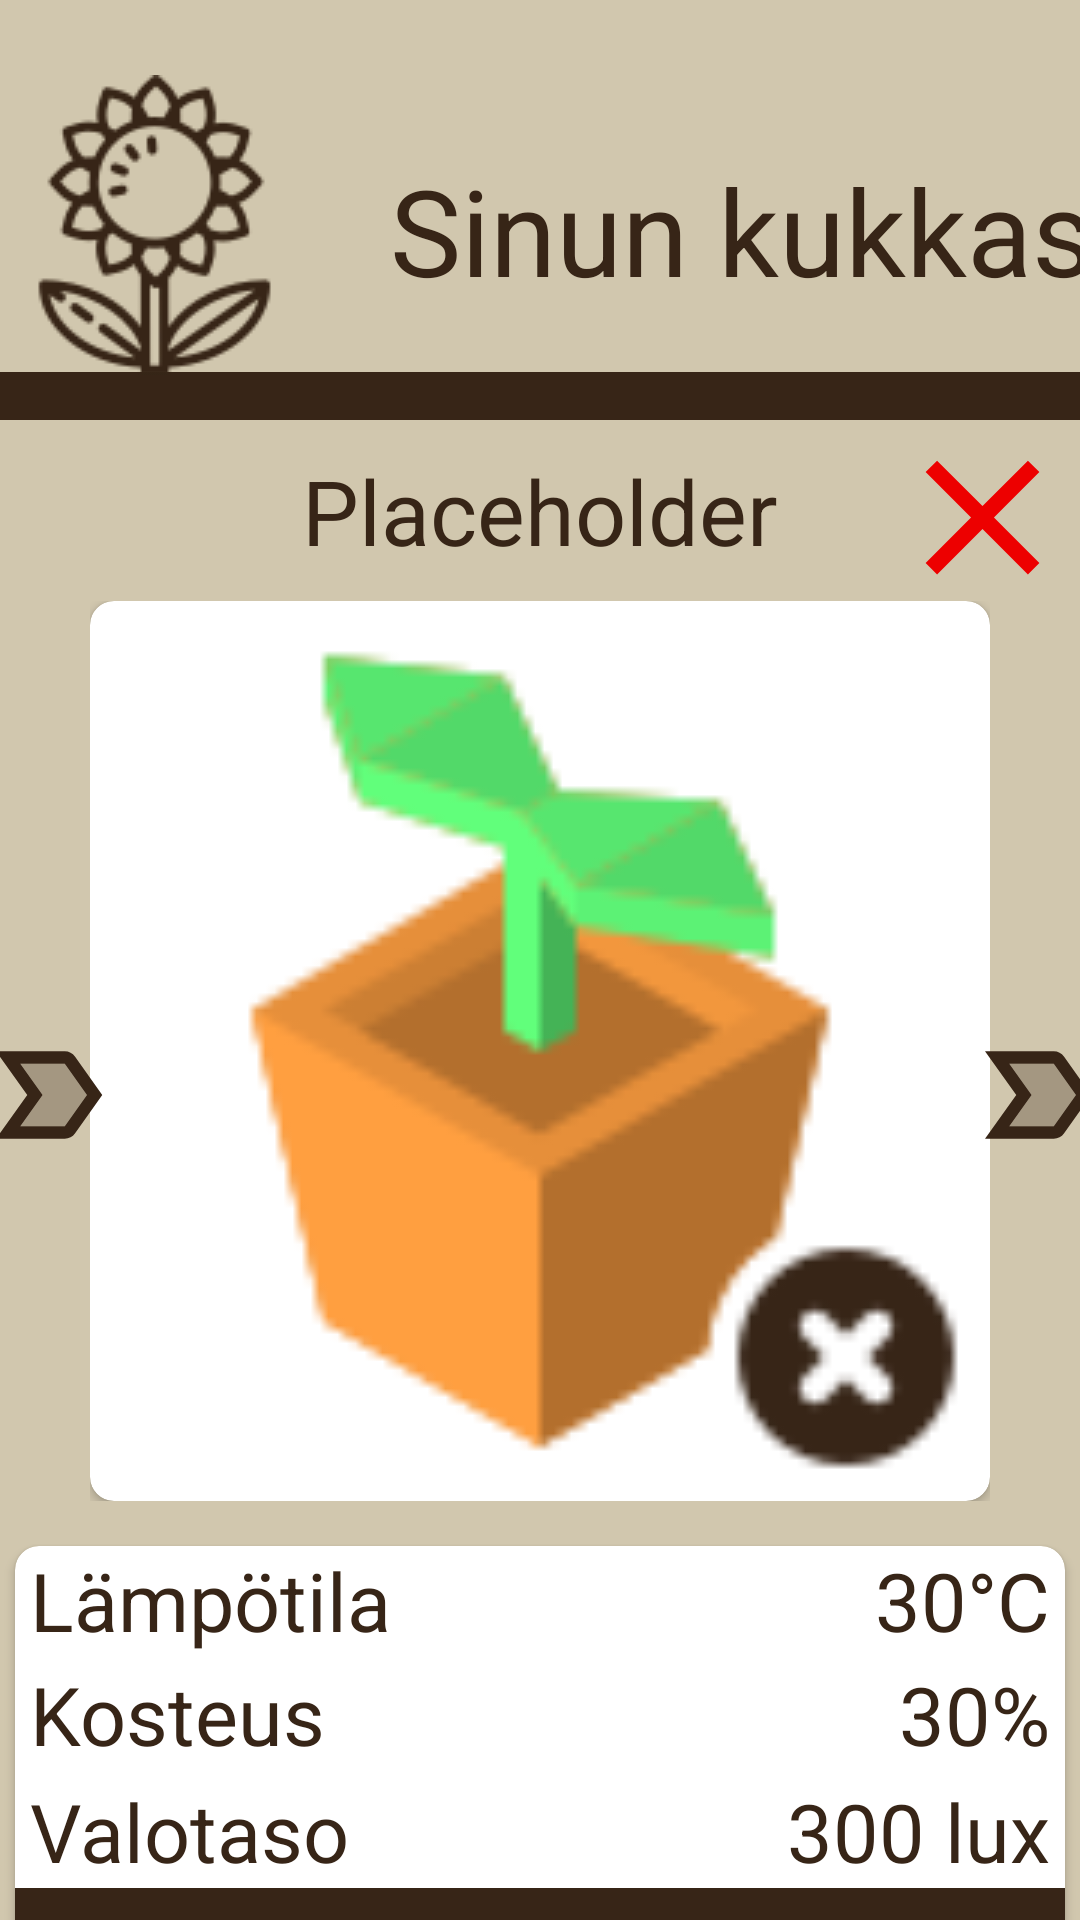

Point at icon controls on the screen. Image size 1080w x 1920h, points as (x,y).
close: (982,517)
